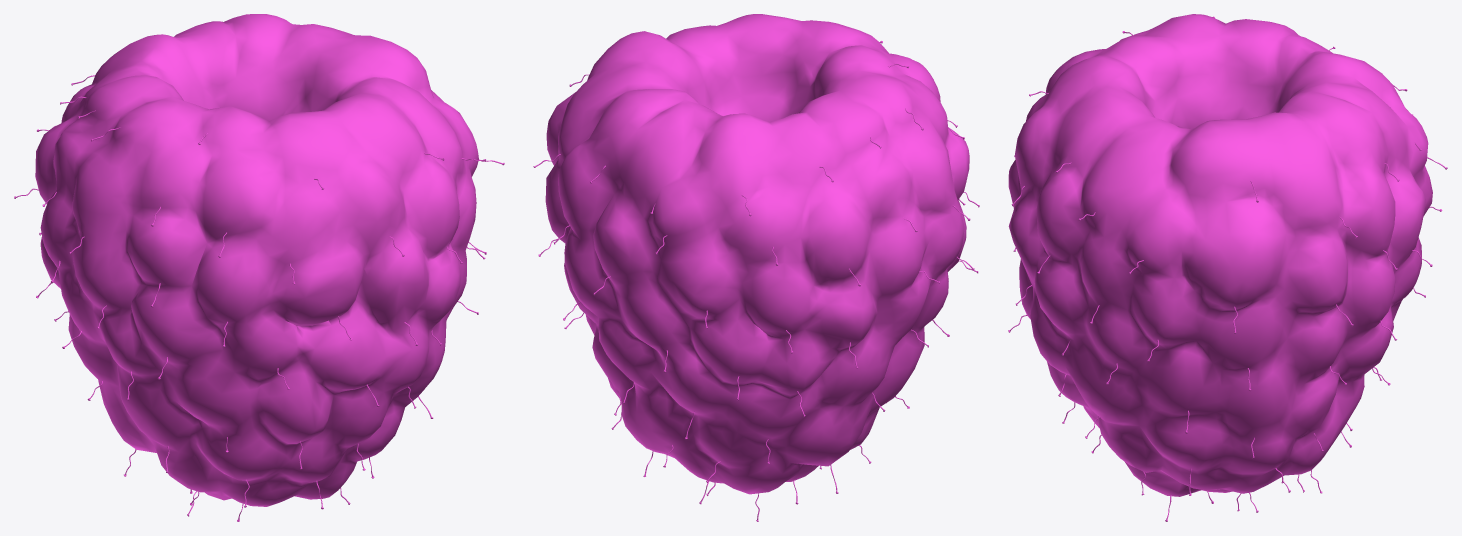
The model's file is ruspliteFux.glb.
3 views of the same model, side by side, from view 1: azimuth 30°, elevation 25°; view 2: azimuth 150°, elevation 25°; view 3: azimuth 270°, elevation 25° (orthographic). The views are drawn at different scales.
Parts seen in each view (by area): view 1: Mesh_raspberry_0.001; view 2: Mesh_raspberry_0.001; view 3: Mesh_raspberry_0.001.
Boxes of the visible parts, x1,y1,x2,y2 form: Mesh_raspberry_0.001: (14, 14, 504, 521); Mesh_raspberry_0.001: (533, 14, 979, 521); Mesh_raspberry_0.001: (1008, 14, 1447, 521).
Bounding box in the file's own units: 6.39 × 6.54 × 6.07.
